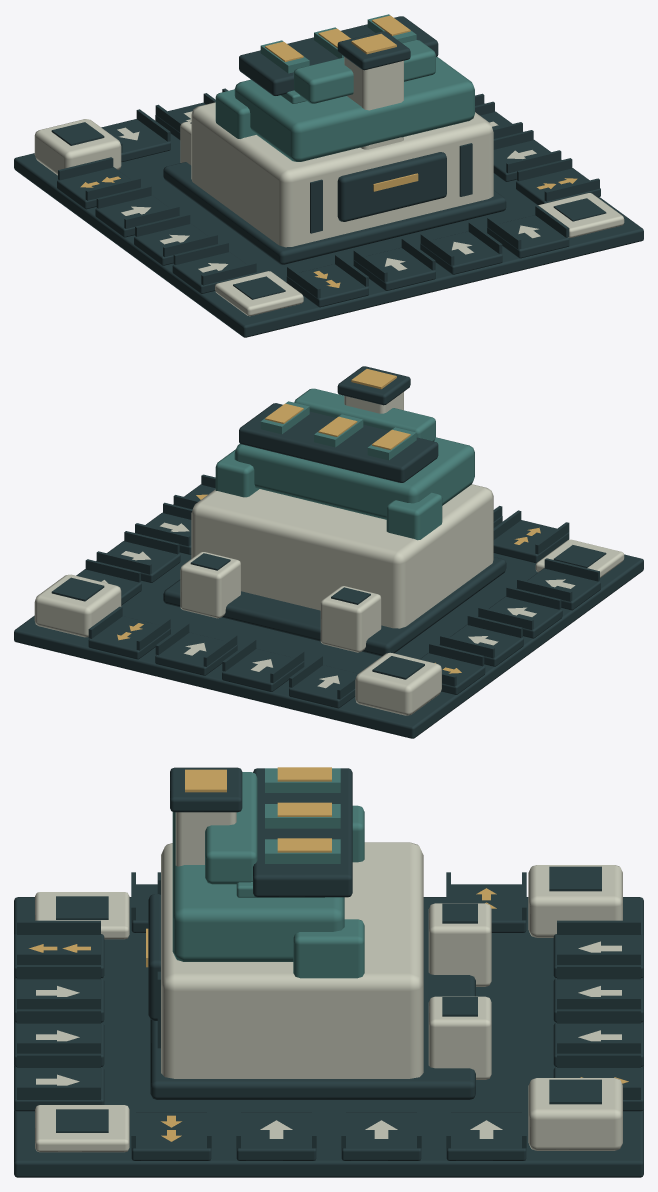
The model's file is core-outline.glb.
3 views of the same model, one above another, from view 1: azimuth 30°, elevation 25°; view 2: azimuth 150°, elevation 25°; view 3: azimuth 270°, elevation 25° (orthographic). The views are drawn at different scales.
Visible parts, largest first — view 1: LogisticsRing_Mesh0, Structure_Mesh0, I_Mesh0, II_Mesh0, III_Mesh1, StatusMounts_Mesh0, III_Mesh0, III_Mesh2; view 2: LogisticsRing_Mesh0, Structure_Mesh0, I_Mesh0, III_Mesh1, II_Mesh0, III_Mesh0, III_Mesh2, StatusMounts_Mesh0; view 3: LogisticsRing_Mesh0, Structure_Mesh0, I_Mesh0, II_Mesh0, III_Mesh1, III_Mesh0, III_Mesh2, StatusMounts_Mesh0.
Boxes of the visible parts, x1,y1,x2,y2 form: LogisticsRing_Mesh0: [14, 31, 643, 337]; Structure_Mesh0: [34, 57, 624, 316]; I_Mesh0: [234, 57, 474, 161]; II_Mesh0: [215, 40, 435, 138]; III_Mesh1: [239, 16, 438, 95]; StatusMounts_Mesh0: [80, 33, 577, 287]; III_Mesh0: [260, 14, 416, 73]; III_Mesh2: [265, 15, 410, 61]; LogisticsRing_Mesh0: [14, 366, 643, 738]; Structure_Mesh0: [34, 392, 624, 715]; I_Mesh0: [234, 437, 474, 519]; III_Mesh1: [239, 403, 438, 482]; II_Mesh0: [215, 388, 442, 540]; III_Mesh0: [260, 401, 416, 460]; III_Mesh2: [265, 403, 410, 449]; StatusMounts_Mesh0: [117, 369, 540, 673]; LogisticsRing_Mesh0: [14, 767, 643, 1177]; Structure_Mesh0: [35, 812, 622, 1152]; I_Mesh0: [172, 812, 344, 961]; II_Mesh0: [205, 772, 364, 978]; III_Mesh1: [253, 768, 352, 897]; III_Mesh0: [265, 768, 340, 863]; III_Mesh2: [277, 767, 331, 852]; StatusMounts_Mesh0: [29, 769, 628, 1141].
Bounding box in the file's own units: 6 × 2.8 × 6.
